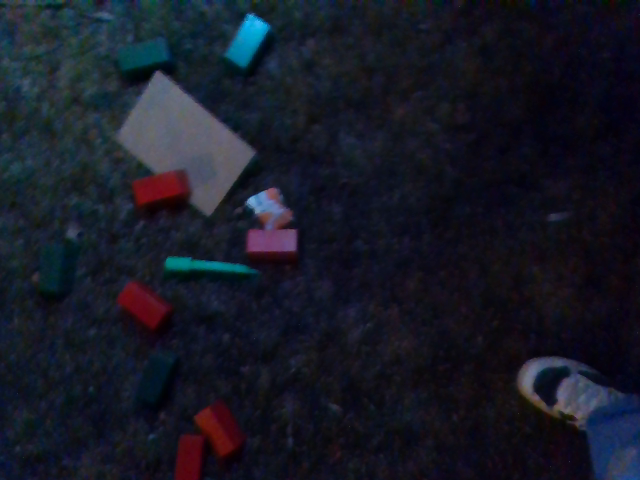Probe: (157, 246, 271, 288)
